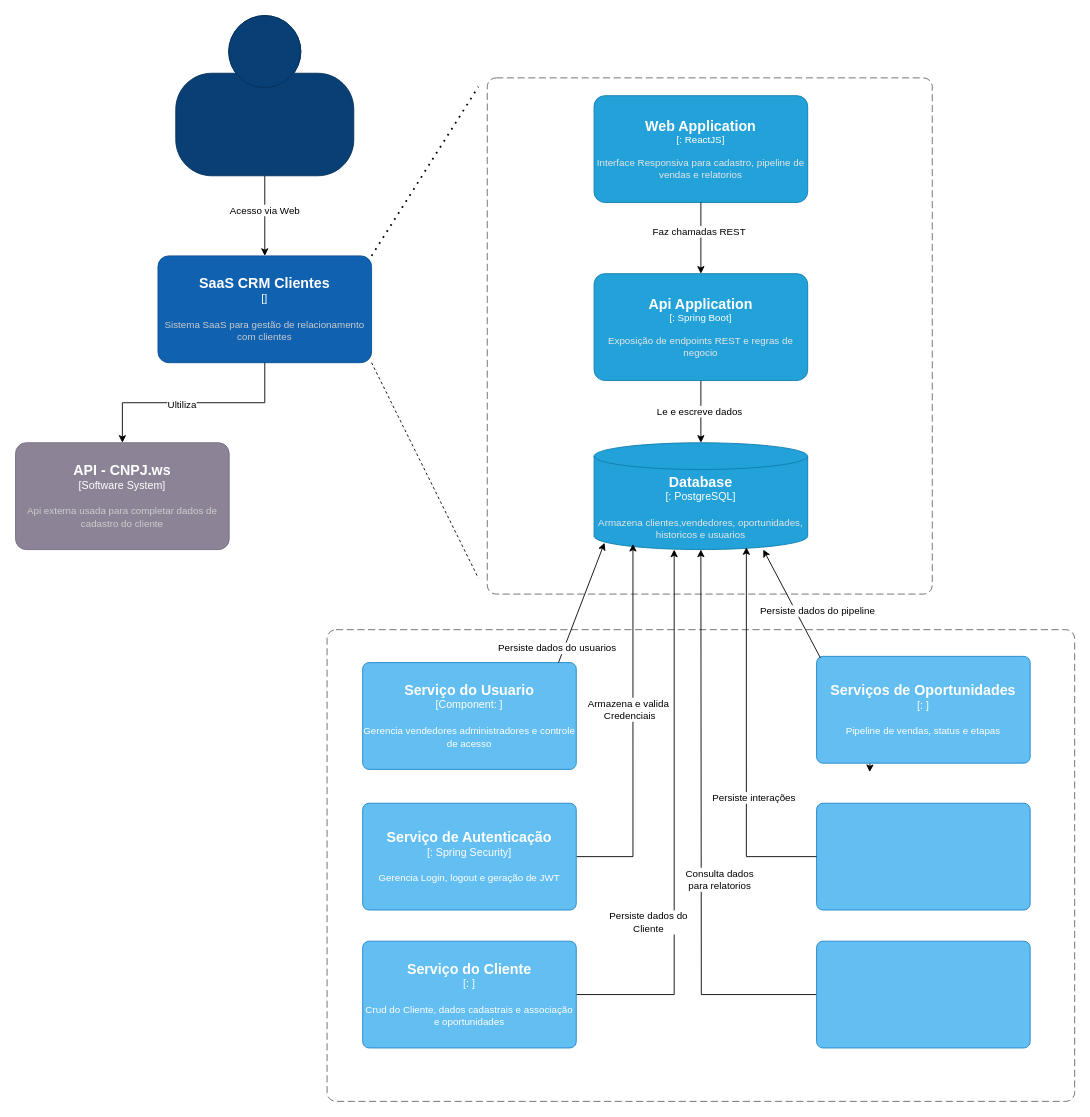
This 1090x1117 diagram has some shape labels left out. Each missing label, with the box of its shape:
API Application [Container]: (326, 629, 1075, 1101)
Saas Clientes [Software System]: (486, 77, 932, 594)
Serviço de Historico [: ] Registra interações (chamadas, reuniões e followups: (816, 802, 1030, 910)
Serviço de Relatorio [: ] Gera indicadores como taxa de conversão: (816, 940, 1030, 1048)
USUARIO [Person] Vendedores e Administradores: (175, 15, 354, 176)
